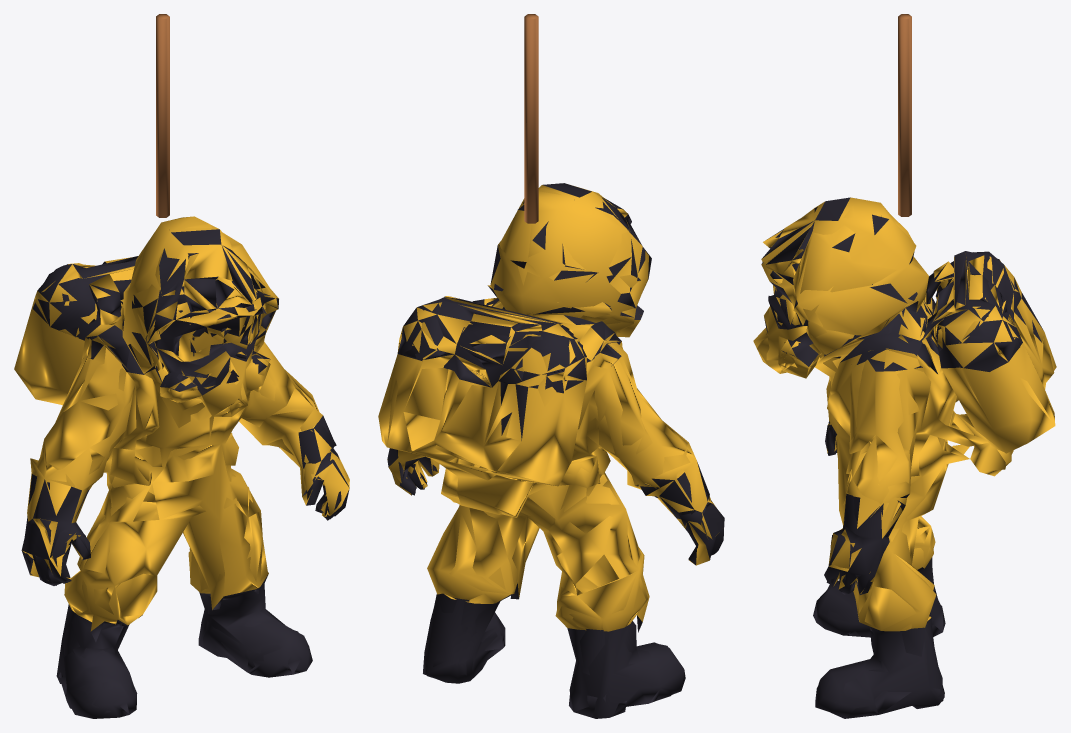
The model's file is prop.l10-warning-effigy.lod1.glb.
3 views of the same model, side by side, from view 1: azimuth 30°, elevation 25°; view 2: azimuth 150°, elevation 25°; view 3: azimuth 270°, elevation 25° (orthographic). The views are drawn at different scales.
Visible parts, largest first — view 1: swing; view 2: swing; view 3: swing.
Part boxes in pixels (x1=…): swing: x1=14, y1=14, x2=349, y2=718; swing: x1=378, y1=14, x2=724, y2=718; swing: x1=753, y1=14, x2=1056, y2=718.
Bounding box in the file's own units: 1.3 × 2.55 × 1.08.
